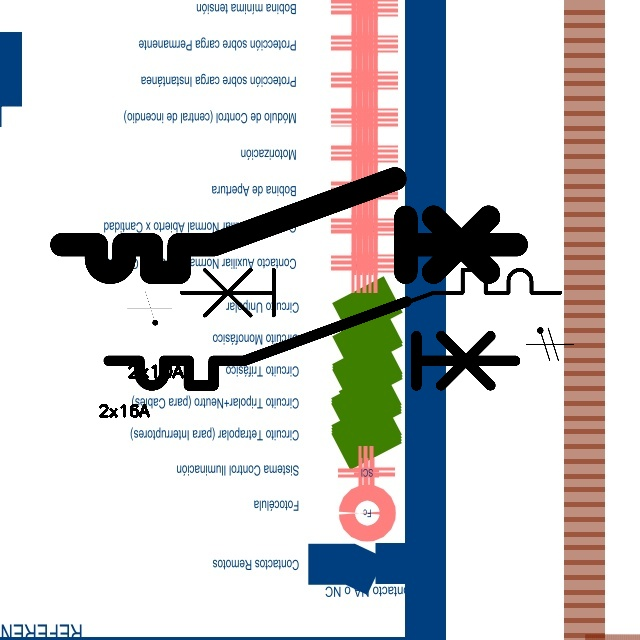interruptor_termomagnetico: (50, 167, 528, 284), (98, 291, 525, 396), (172, 260, 570, 357)
